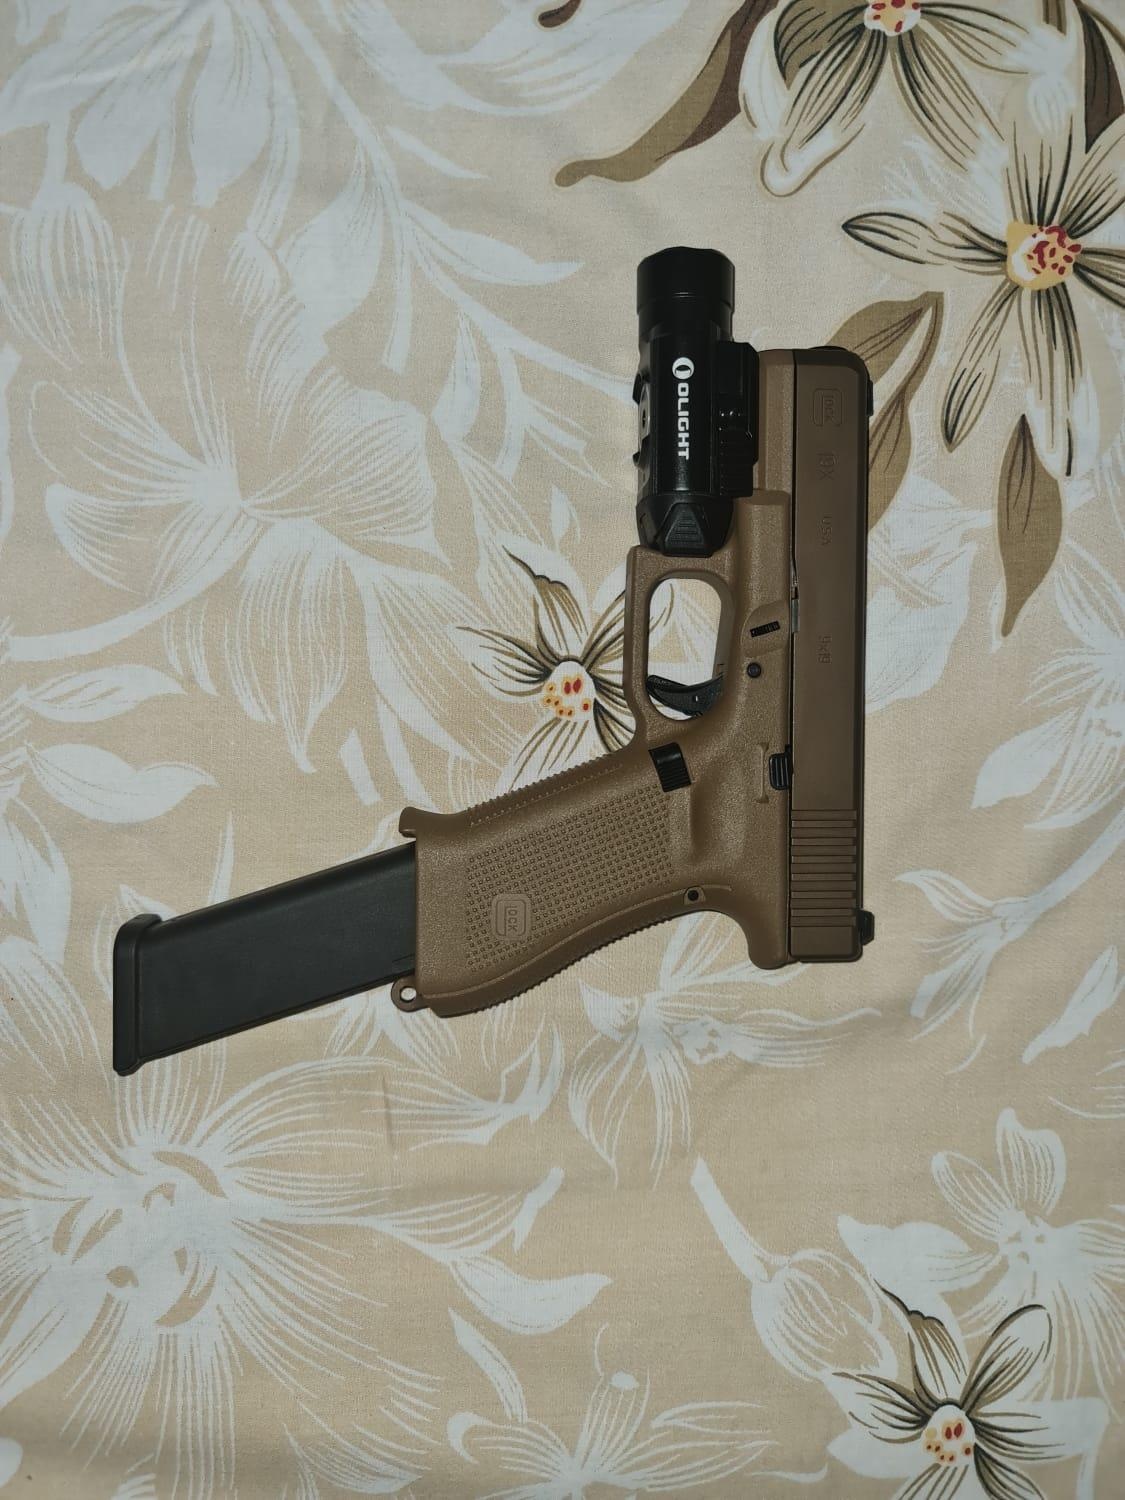weapon: (109, 247, 877, 1076)
